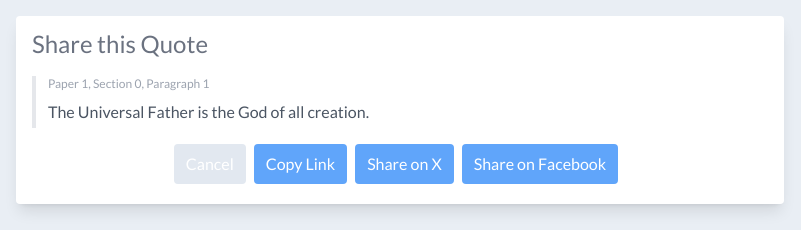
Test: Share › shows Copy Link button that changes to Copied! after click
Click the button "Copy Link" at coordinates (300, 164), box [254,144,347,184]
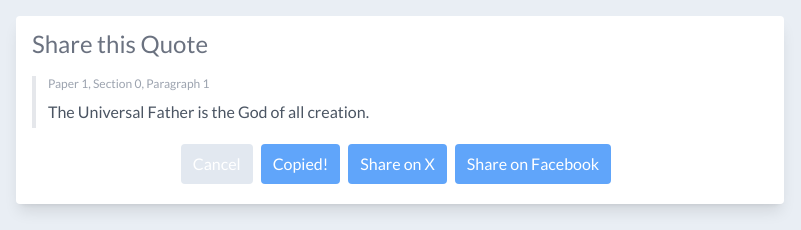
Check: the button "Copied!" is shown, box [261,144,340,184]
Check: the button "Copy Link" is gone
